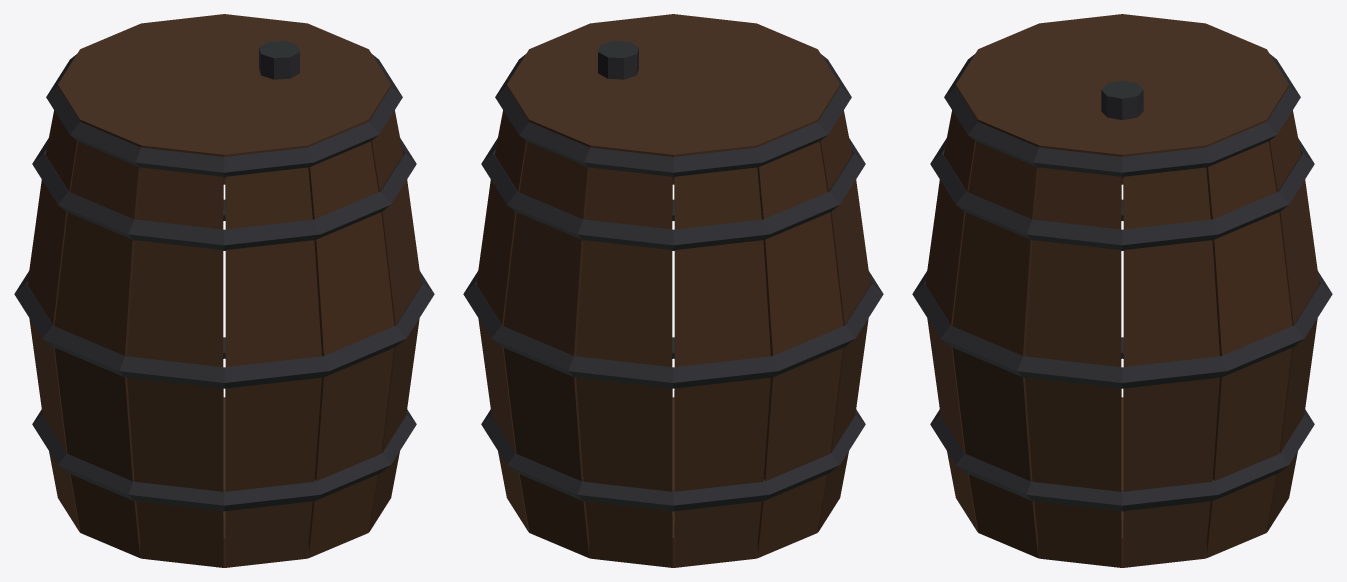
The model's file is prop_barrel_wood_a.glb.
The picture shows the model from 3 angles, left to right: view 1: azimuth 30°, elevation 25°; view 2: azimuth 150°, elevation 25°; view 3: azimuth 270°, elevation 25°; orthographic projection.
Parts seen in each view (by area): view 1: barrel_bottom, barrel_band_0; view 2: barrel_bottom, barrel_band_0; view 3: barrel_bottom, barrel_band_0.
Boxes of the visible parts, x1=… form: barrel_bottom: x1=27, y1=14, x2=421, y2=567; barrel_band_0: x1=14, y1=41, x2=434, y2=511; barrel_bottom: x1=476, y1=14, x2=870, y2=567; barrel_band_0: x1=463, y1=41, x2=883, y2=511; barrel_bottom: x1=925, y1=14, x2=1319, y2=567; barrel_band_0: x1=912, y1=54, x2=1332, y2=511.
Bounding box in the file's own units: 0.89 × 1.02 × 0.89.
